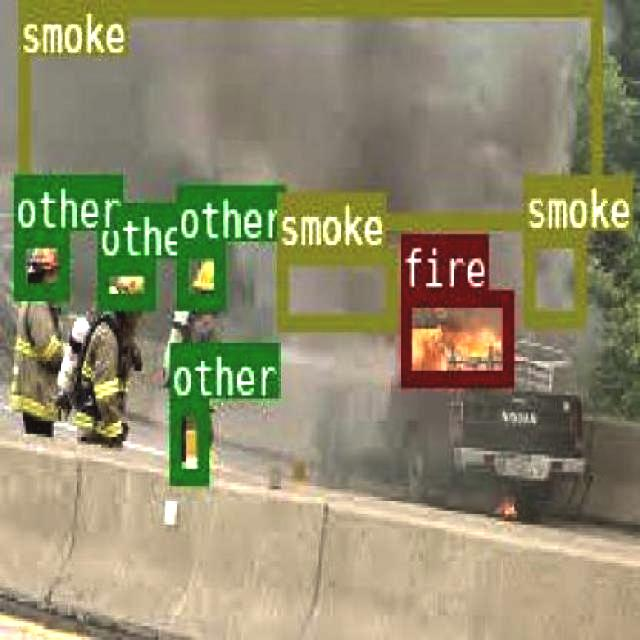fire: (398, 290, 511, 382)
smoke: (18, 0, 600, 223), (275, 246, 394, 326), (522, 228, 584, 322)
